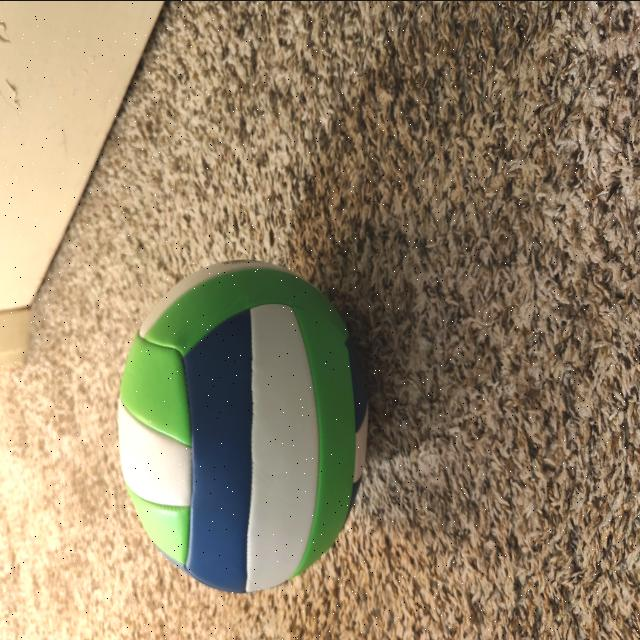ball: (120, 264, 370, 580)
